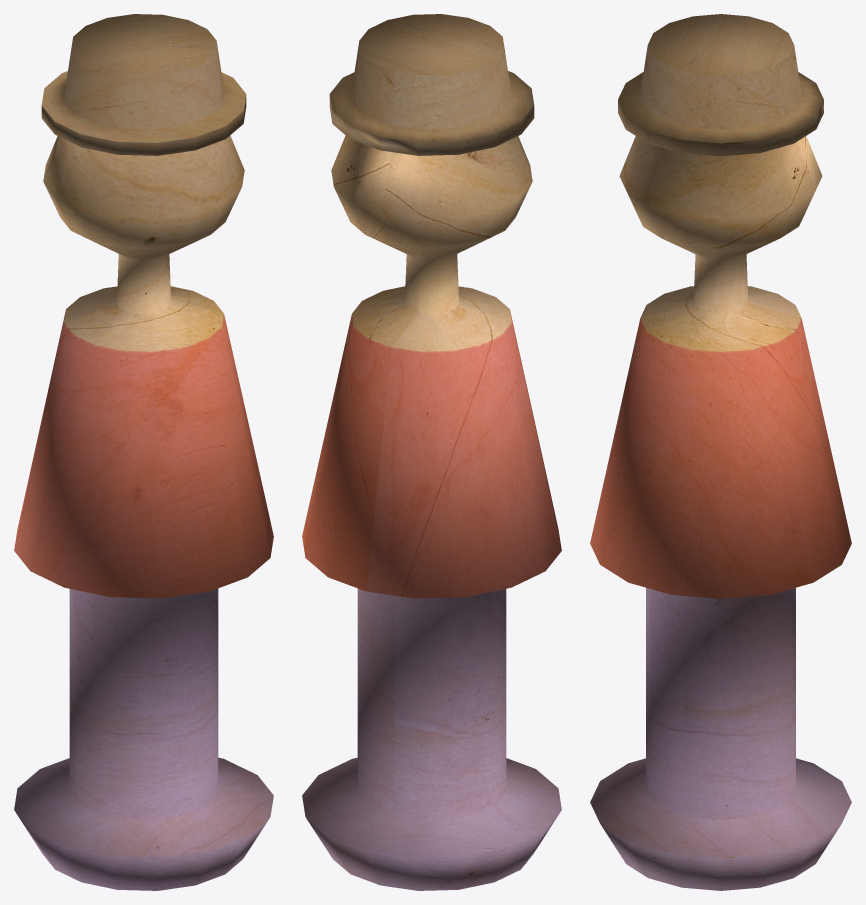
Rendered from soldier.obj.
3 renders of one model, left to right at view 1: azimuth 30°, elevation 25°; view 2: azimuth 150°, elevation 25°; view 3: azimuth 270°, elevation 25°, orthographic.
Parts seen in each view (by area): view 1: Cylinder; view 2: Cylinder; view 3: Cylinder.
Boxes of the visible parts, x1,y1,x2,y2 form: Cylinder: [14, 14, 273, 890]; Cylinder: [302, 14, 561, 890]; Cylinder: [590, 14, 851, 890].
Size of what is drawn, in the model's own units: 1.08 by 3.66 by 1.08.
